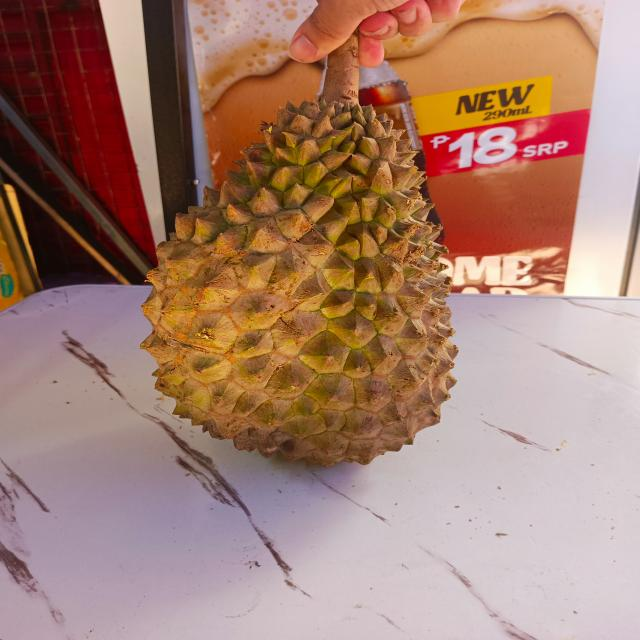mature: (134, 97, 502, 480)
